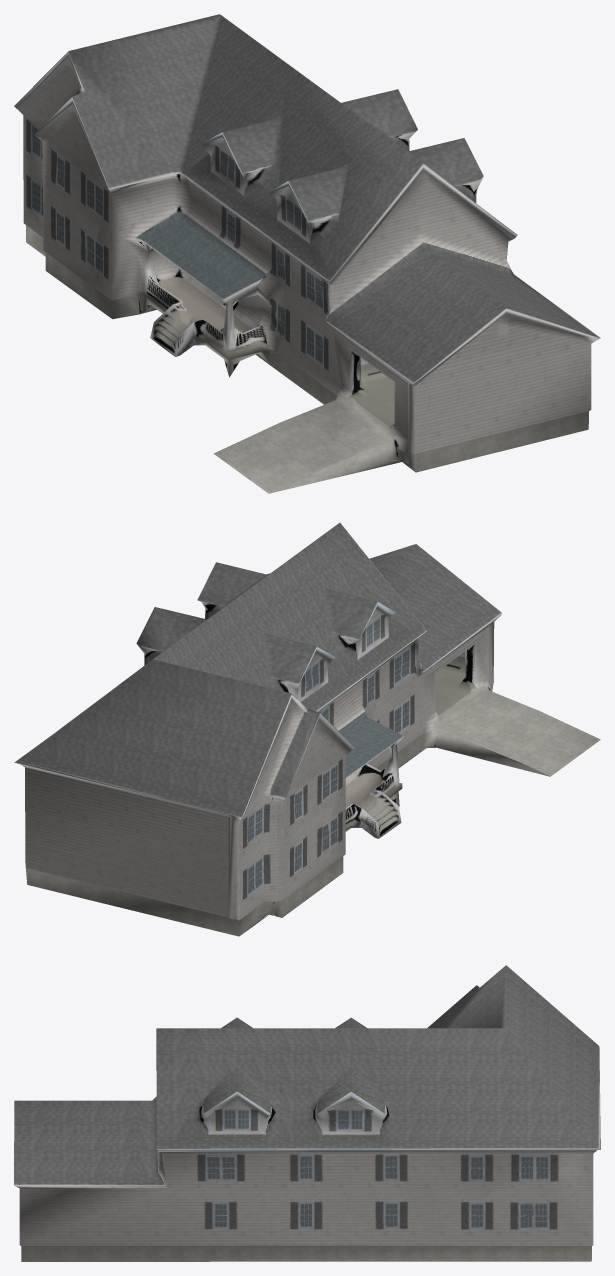
File: SM_Proxy_House_11.fbx
3 renders of one model, top to bottom at view 1: azimuth 30°, elevation 25°; view 2: azimuth 150°, elevation 25°; view 3: azimuth 270°, elevation 25°, orthographic. The views are drawn at different scales.
Visible parts, largest first — view 1: SM_Proxy_House_11; view 2: SM_Proxy_House_11; view 3: SM_Proxy_House_11.
Part boxes in pixels (x1,y1,x2,y2): SM_Proxy_House_11: (14,14,600,493); SM_Proxy_House_11: (14,522,600,936); SM_Proxy_House_11: (14,965,600,1261).
Bounding box in the file's own units: 1533 × 2882 × 1081.
1 material, 1 textured.
